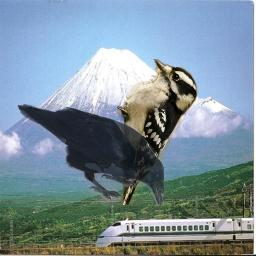Crow: (16, 104, 164, 206)
Woodpecker: (117, 59, 198, 205)
